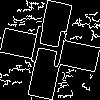H: (25, 25, 70, 77)
